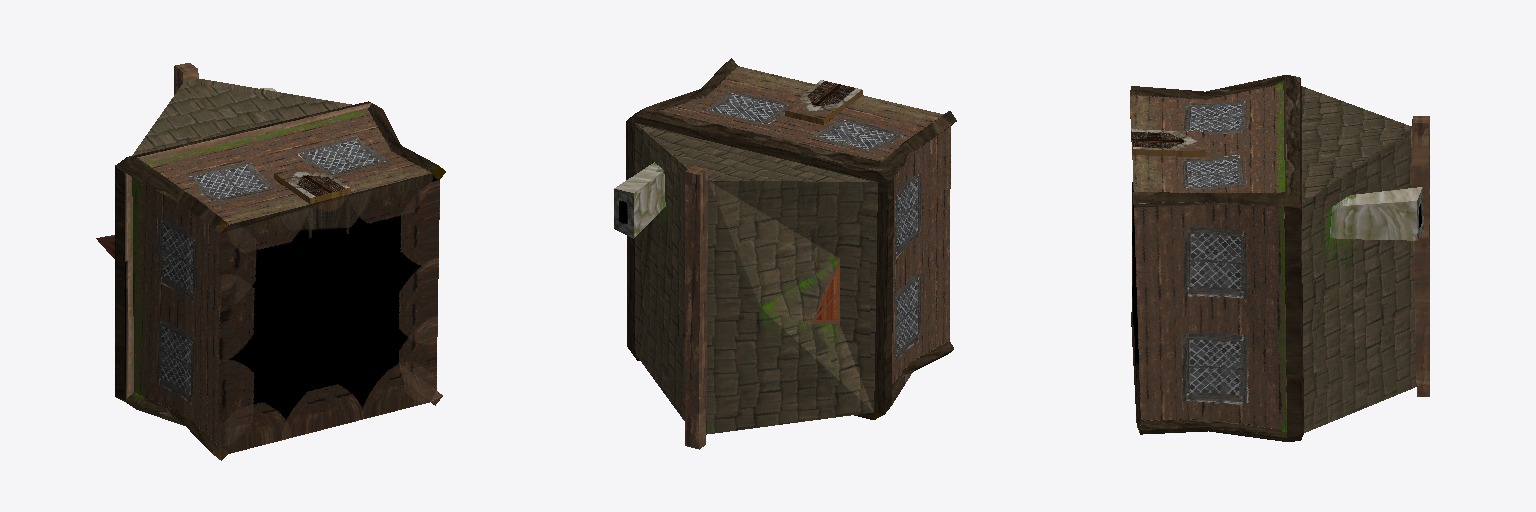
The picture shows the model from 3 angles: view 1: azimuth 30°, elevation 25°; view 2: azimuth 150°, elevation 25°; view 3: azimuth 270°, elevation 25°; orthographic projection.
Visible parts, largest first — view 1: Cube.001_Cube.001; view 2: Cube.001_Cube.001; view 3: Cube.001_Cube.001.
Part boxes in pixels (x1,y1,x2,y2): Cube.001_Cube.001: (96, 63, 445, 460); Cube.001_Cube.001: (614, 58, 956, 449); Cube.001_Cube.001: (1130, 75, 1429, 441).
Bounding box in the file's own units: 4 × 4 × 3.98.
Materials: 1 (1 with a texture image).